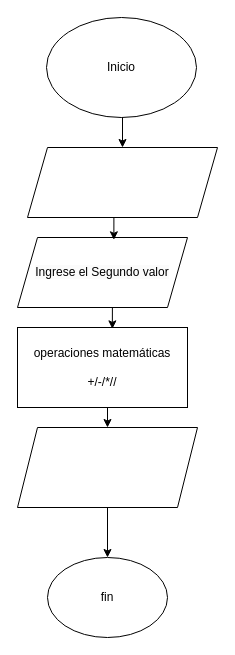
Some shapes in this 235 by 655 pixel diagram are drawn without their labels. The centre of each missing label's shape, as x and y in pixels:
Ingrese el primer valor: pixel 122 182
Mostrar un resultado: pixel 107 467
